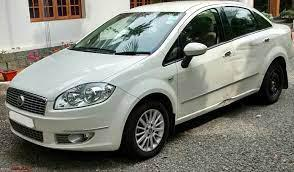doorouter-dent: (157, 43, 243, 116)
